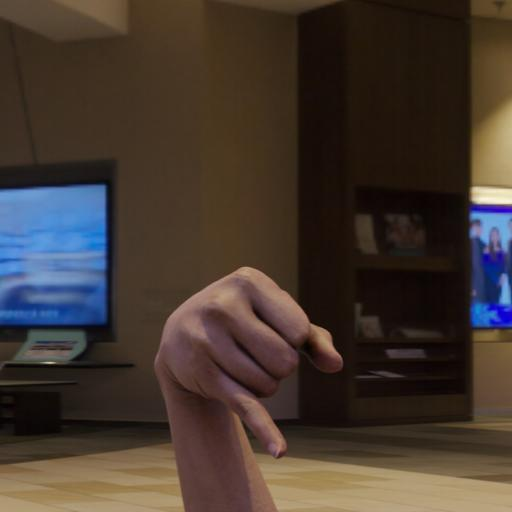J: (128, 232, 398, 512)
